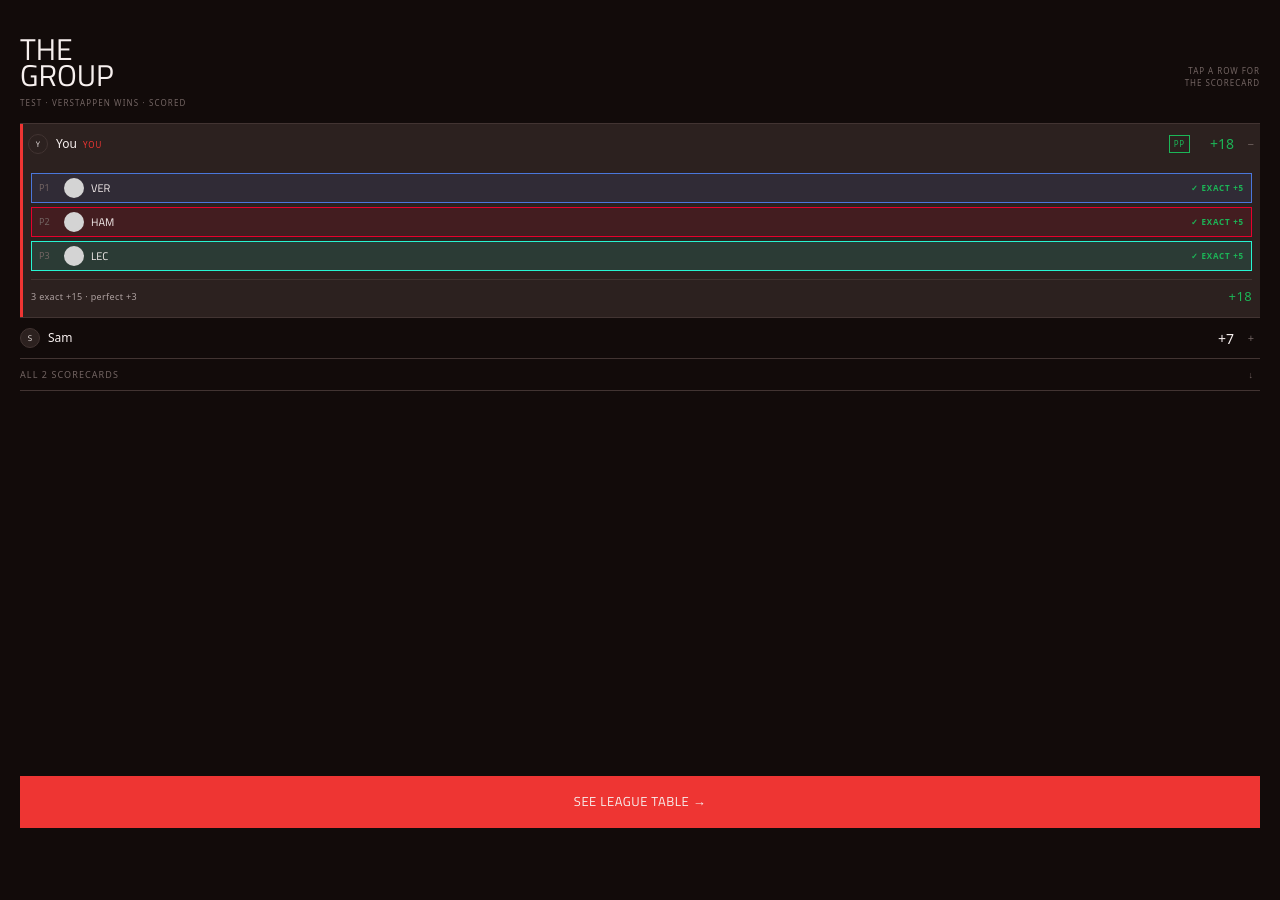
RevealStage portrait stage-C scorecards (R-5) › shows the non-linear bucket, not the raw mismatch count
Click the button "S Sam +7 +" at x=30, y=338, box [20,318,1260,358]
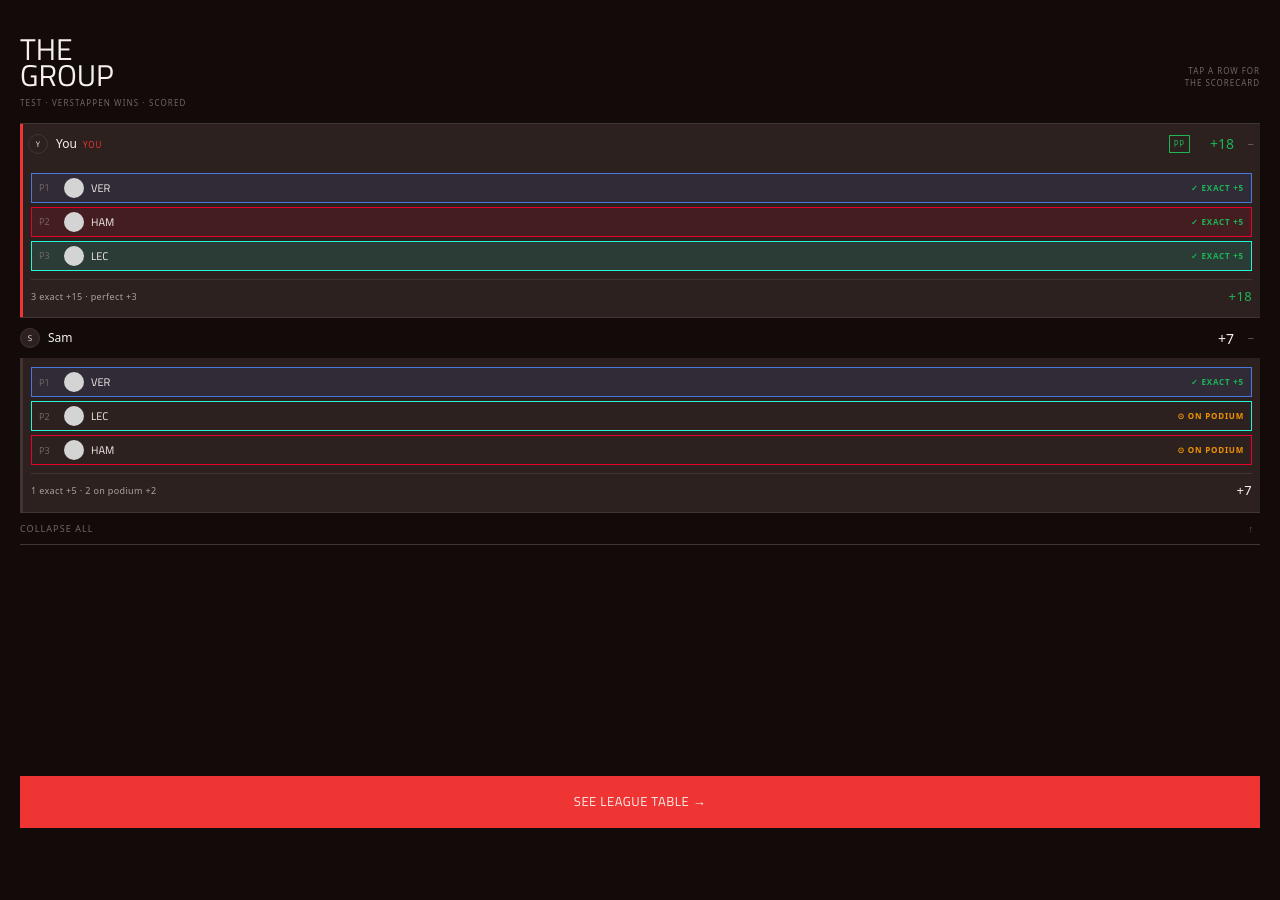
Expected: the element that starts with "VER" shows "1 exact +5", [20,358,1260,512]
Expected: the element that starts with "VER" shows "2 on podium +2", [77,484,156,497]
Expected: the element that starts with "VER" shows "+7", [20,358,1260,512]
